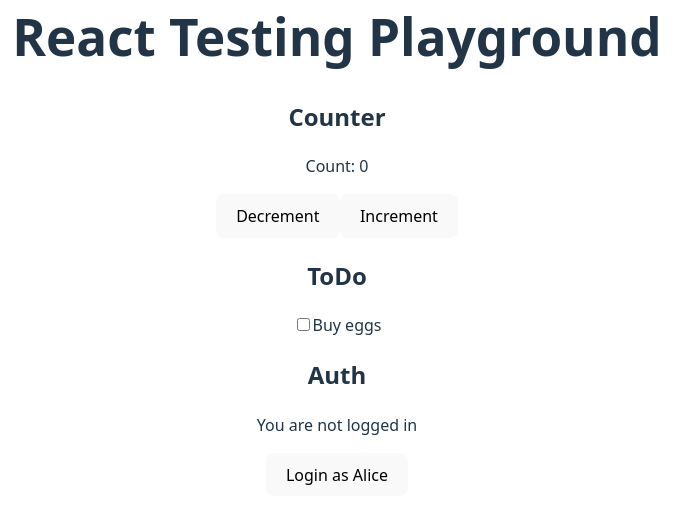
Test: logs in and logs out via context
The image size is (675, 513).
# Act 1: login
Click the button "Login as Alice".
click(337, 475)  # box [266,453,408,496]
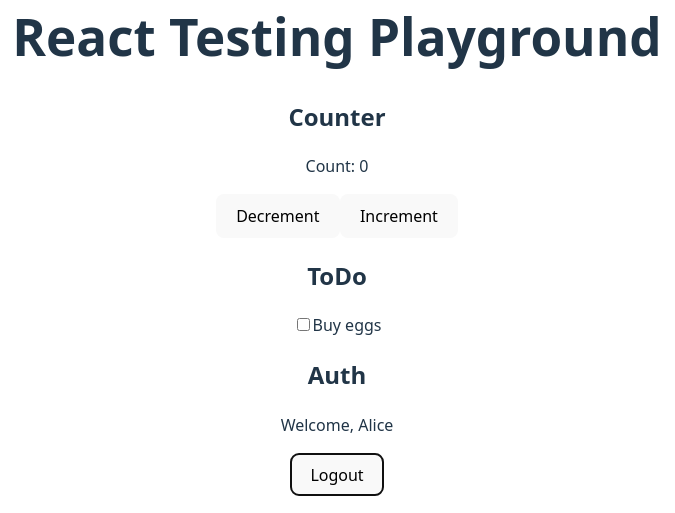
Check: the text "Welcome, Alice" is shown, box [281,414,393,436]
# Act 2: logout
Click the button "Logout".
click(337, 475)  # box [290,453,384,496]
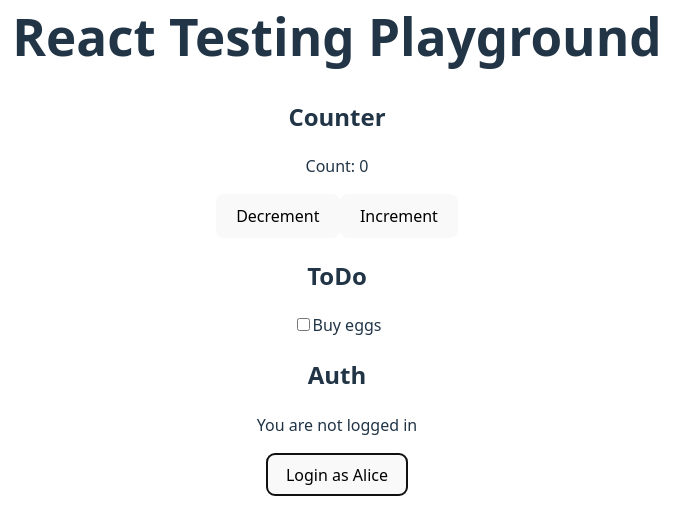
Check: the text "You are not logged in" is shown, box [257,414,417,436]
